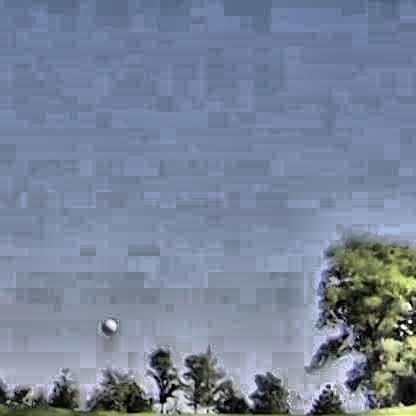golfball: (98, 315, 114, 333)
